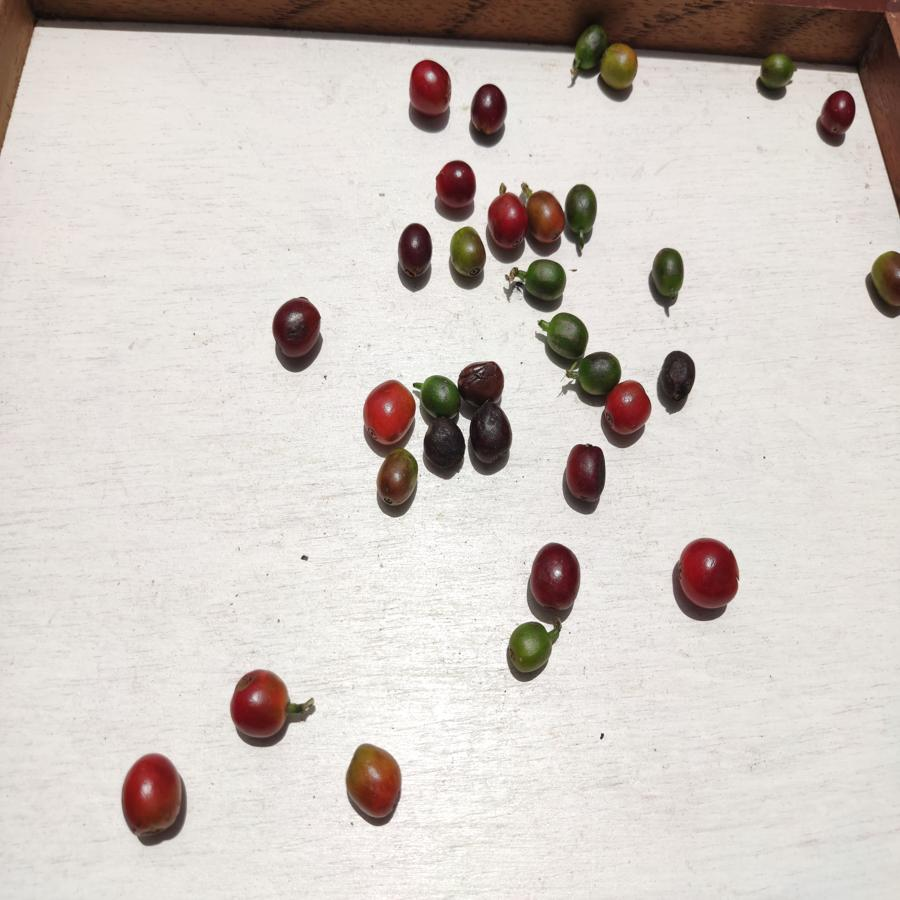Inmaduro: (506, 619, 554, 675), (538, 311, 588, 358), (521, 259, 567, 305), (653, 246, 689, 303), (564, 185, 600, 235), (575, 351, 622, 387), (757, 53, 796, 92), (419, 376, 456, 414), (574, 29, 602, 74)
Maduro: (120, 751, 185, 838), (673, 539, 741, 610), (229, 668, 293, 741), (362, 380, 419, 444), (602, 382, 652, 436), (409, 58, 452, 116), (488, 192, 527, 248)
Pinton: (346, 743, 405, 820), (376, 449, 421, 512), (448, 227, 488, 279), (869, 247, 900, 314), (525, 190, 563, 244), (599, 41, 639, 89)
Sobremaduro: (530, 542, 582, 611), (272, 297, 325, 361), (466, 401, 515, 467), (562, 441, 609, 508), (394, 219, 440, 278), (452, 359, 507, 407), (657, 350, 698, 407), (467, 83, 510, 137), (424, 415, 464, 471), (431, 163, 478, 206), (817, 91, 858, 135)
